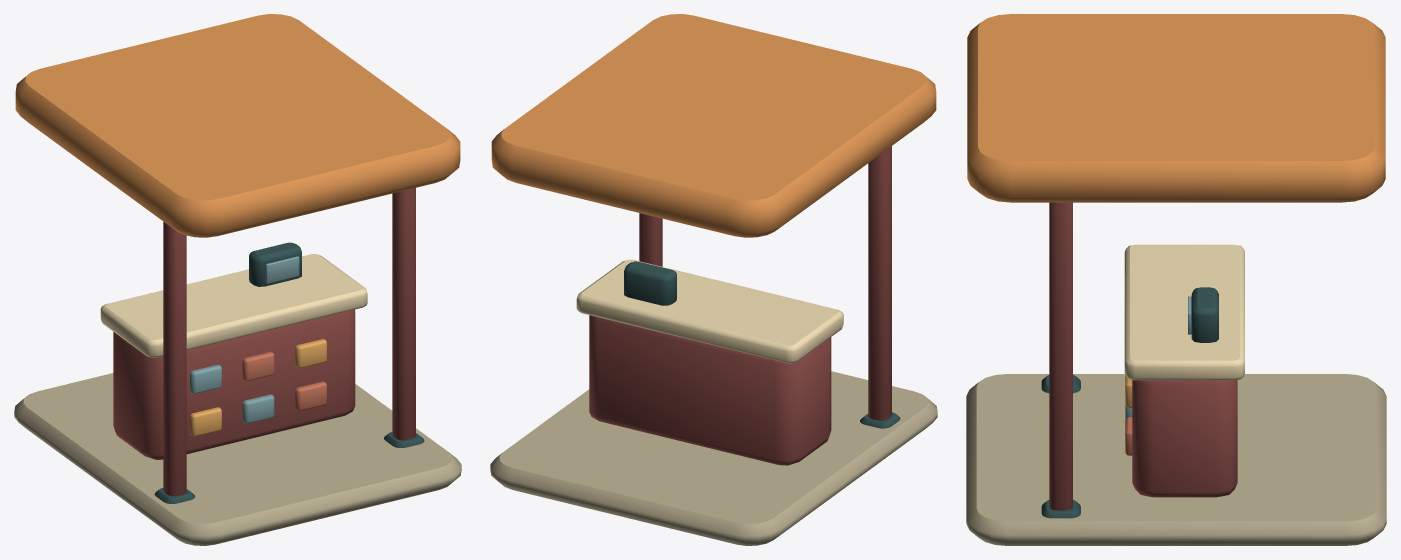
Rendered from route66_parts_2.glb.
3 renders of one model, left to right at view 1: azimuth 30°, elevation 25°; view 2: azimuth 150°, elevation 25°; view 3: azimuth 270°, elevation 25°, orthographic. The views are drawn at different scales.
Visible parts, largest first — view 1: Route66Parts2; view 2: Route66Parts2; view 3: Route66Parts2.
Part boxes in pixels (x1,y1,x2,y2): Route66Parts2: (14, 14, 461, 545); Route66Parts2: (490, 14, 937, 545); Route66Parts2: (966, 14, 1386, 545).
Size of the model in its own units: 2.18 by 2.51 by 2.48.
